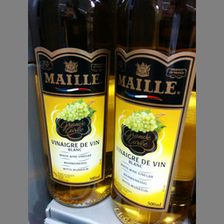vinegar: (113, 1, 196, 224), (30, 1, 115, 208)
